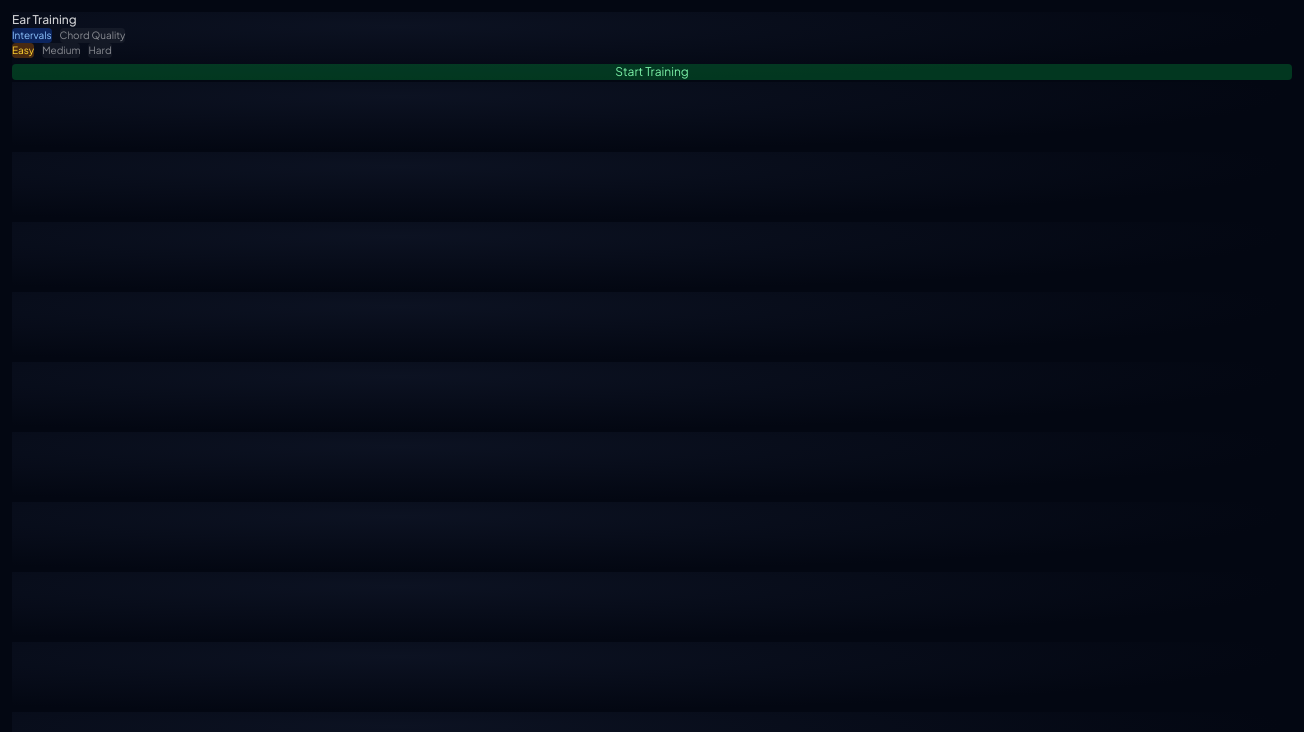
Scenario: EarTrainingPanel › switching to chord quality mode changes the question
Click the button "Chord Quality". click: (93, 36)
box: top-left (60, 28), bottom-right (126, 43)
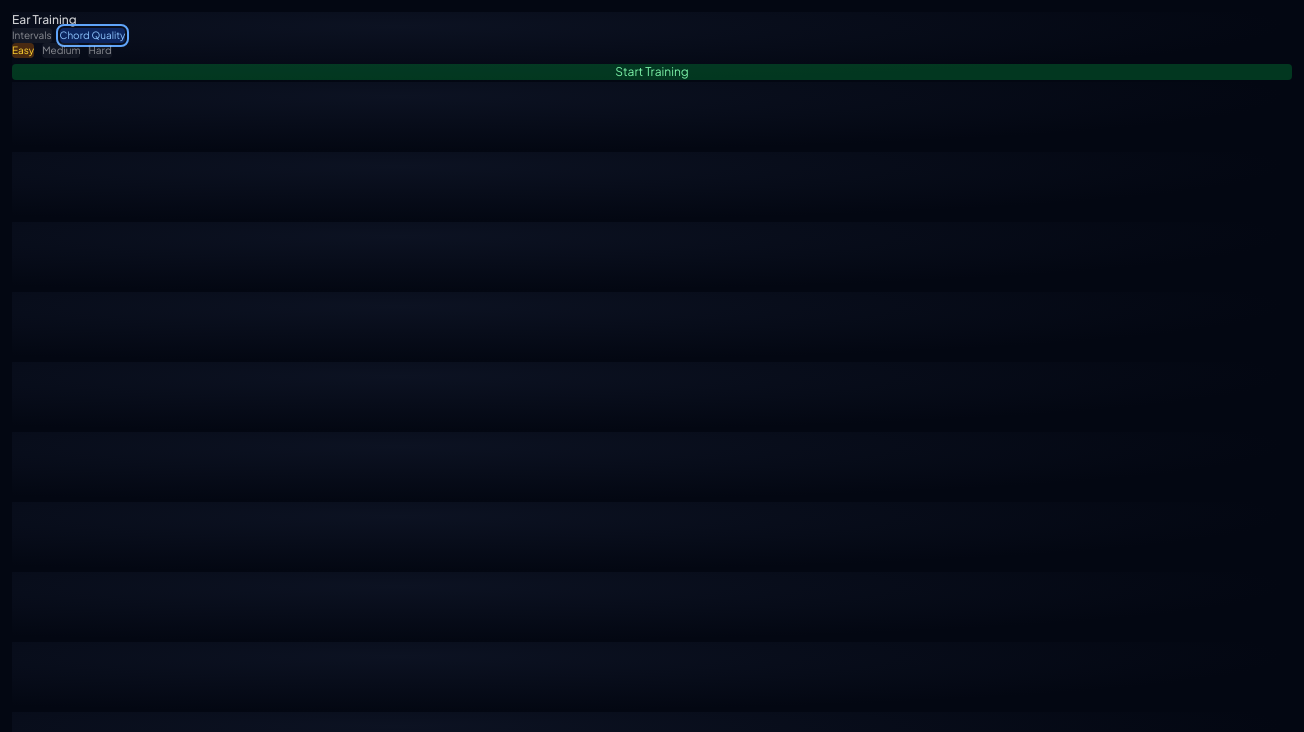
Click the button "Start Training". click: (652, 72)
box: top-left (12, 64), bottom-right (1292, 80)
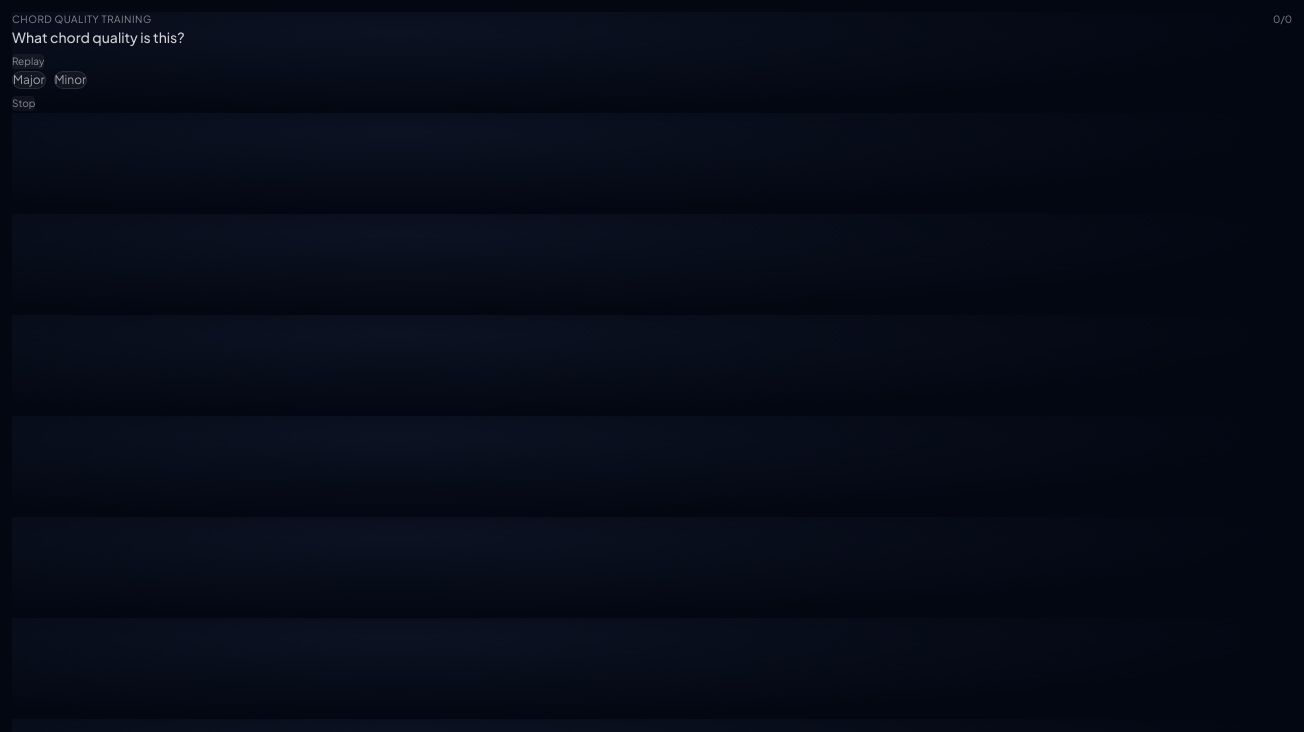
Check: the text "What chord quality is this?" is shown, box top-left (12, 28), bottom-right (185, 46)
